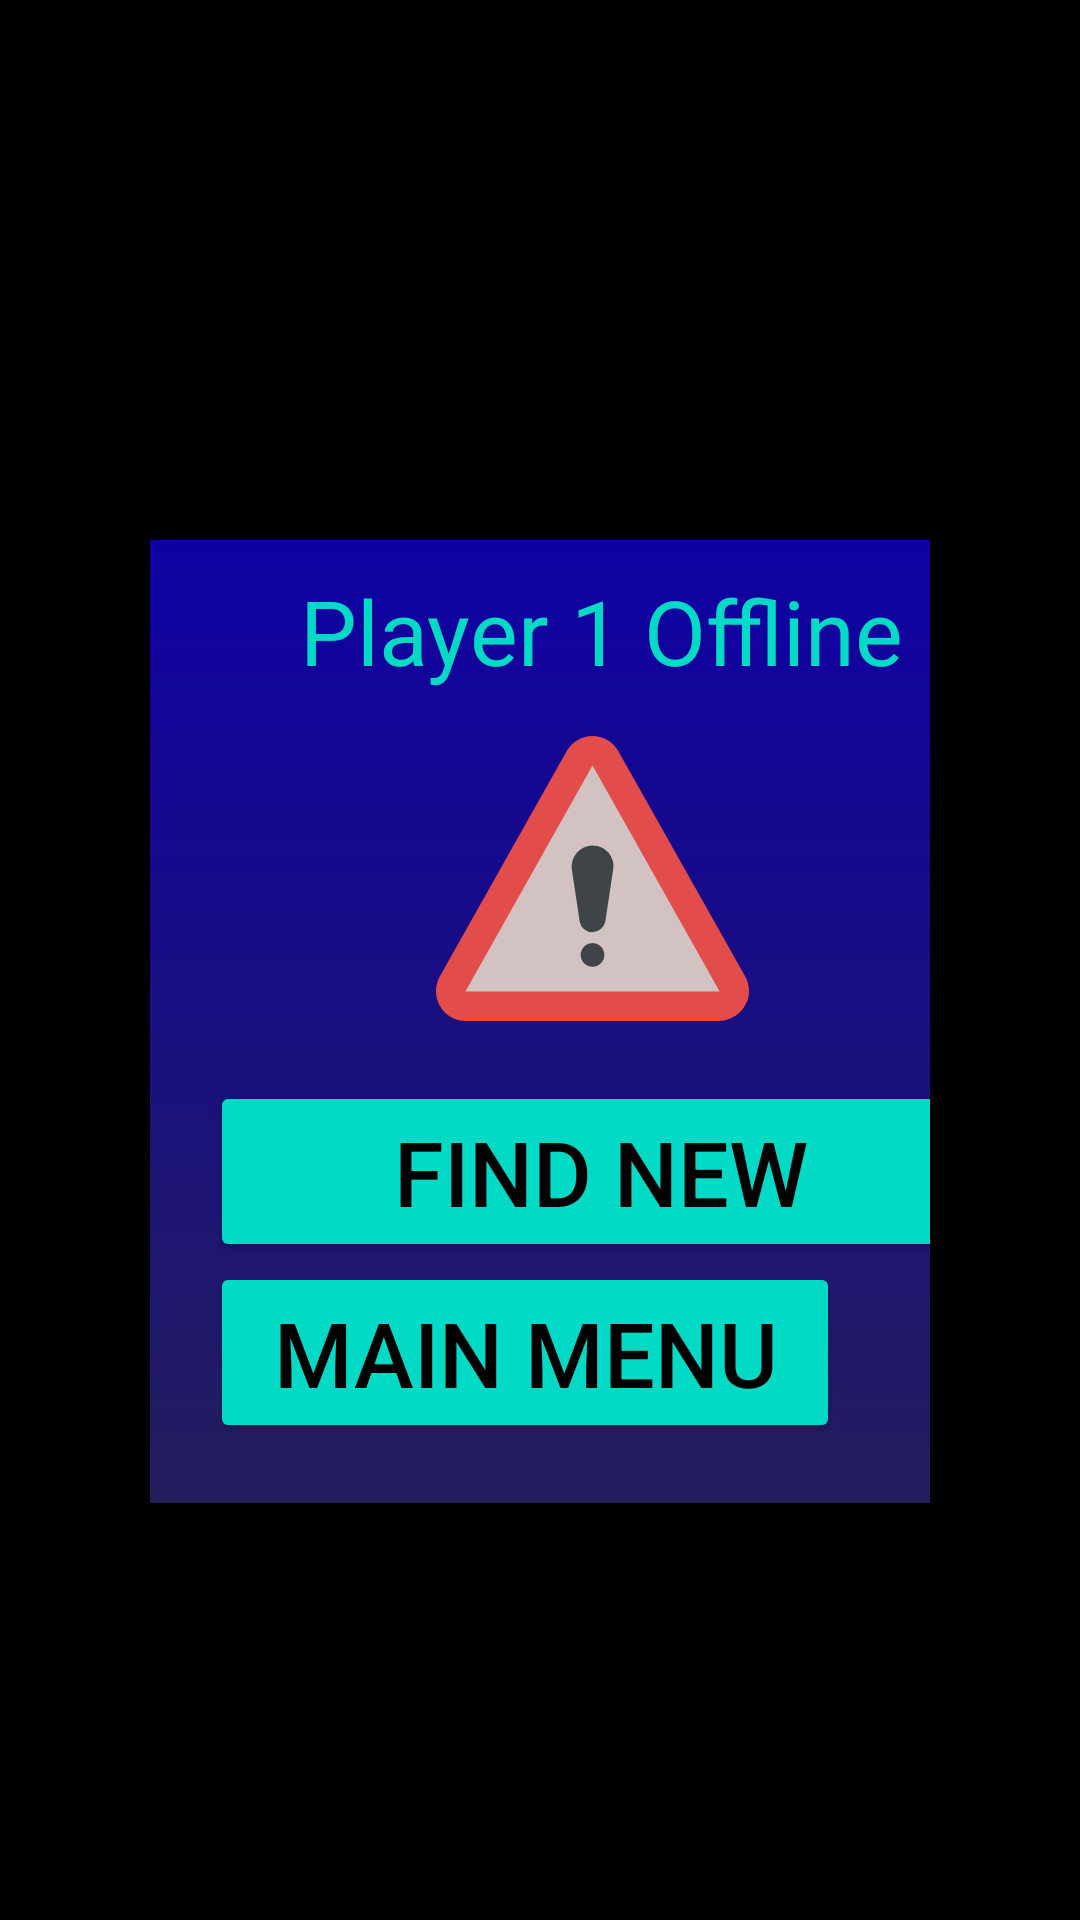

Icon bounding boxes for this 1080w x 1920h phone screenshot, format (x1, y1, x2, y2):
warning: (436, 736, 749, 1021)
